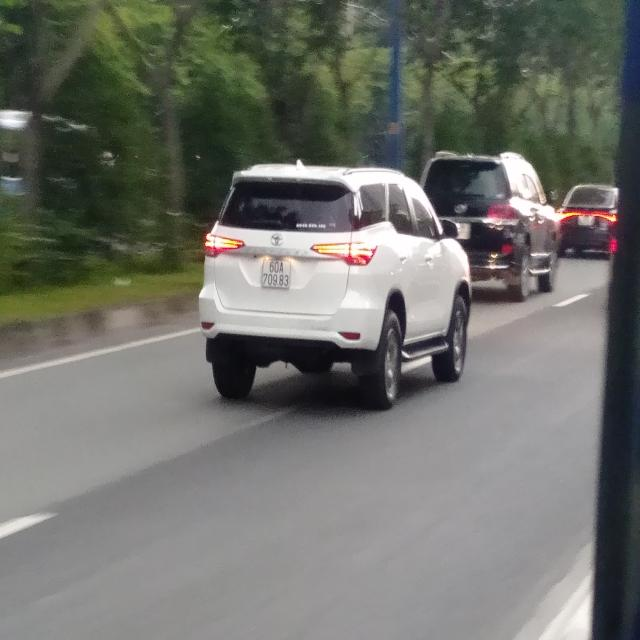bien_trang: (260, 258, 292, 292)
